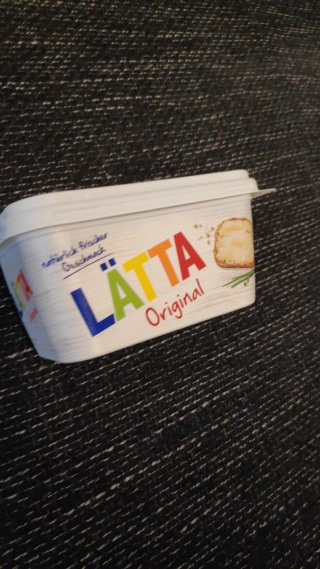laetta: (1, 168, 278, 364)
